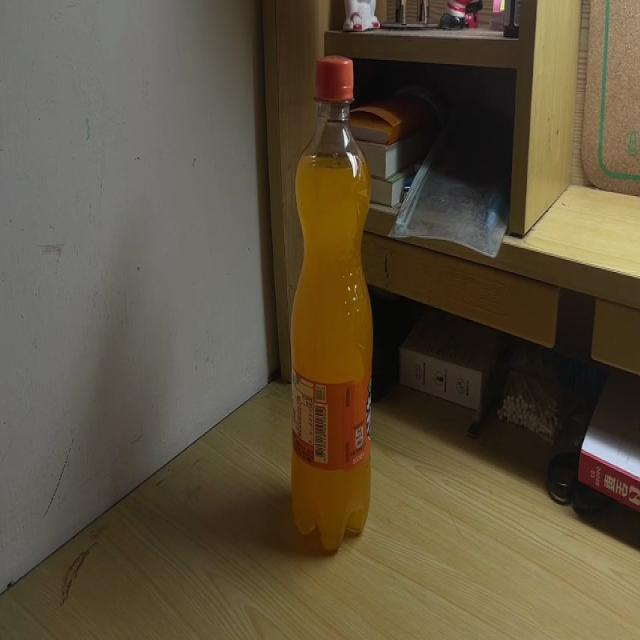Fanta: (289, 57, 374, 554)
